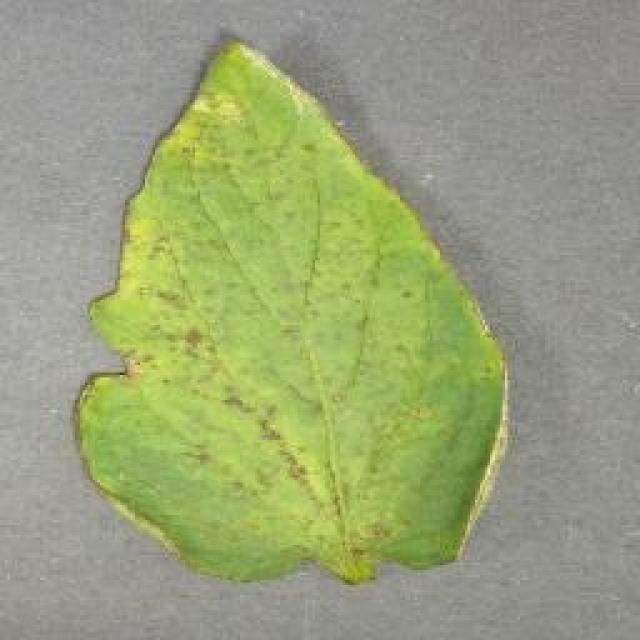Tomato bacterial spot leaf: (71, 31, 512, 584)
